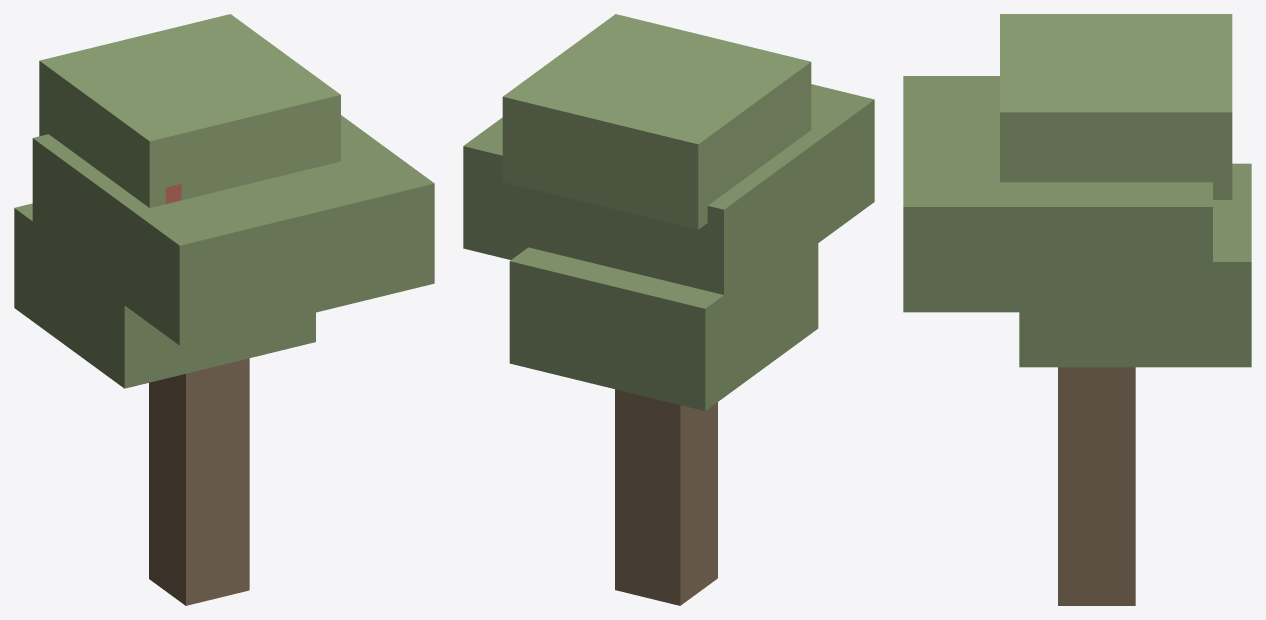
The model's file is avellana_silvestre_02.glb.
The picture shows the model from 3 angles, left to right: view 1: azimuth 30°, elevation 25°; view 2: azimuth 150°, elevation 25°; view 3: azimuth 270°, elevation 25°; orthographic projection. The views are drawn at different scales.
Visible parts, largest first — view 1: avellana_silvestre_02; view 2: avellana_silvestre_02; view 3: avellana_silvestre_02.
Part boxes in pixels (x1,y1,x2,y2): avellana_silvestre_02: (14, 14, 434, 605); avellana_silvestre_02: (463, 14, 874, 605); avellana_silvestre_02: (903, 14, 1251, 605).
Size of the model in its own units: 1.6 by 3 by 1.8.
